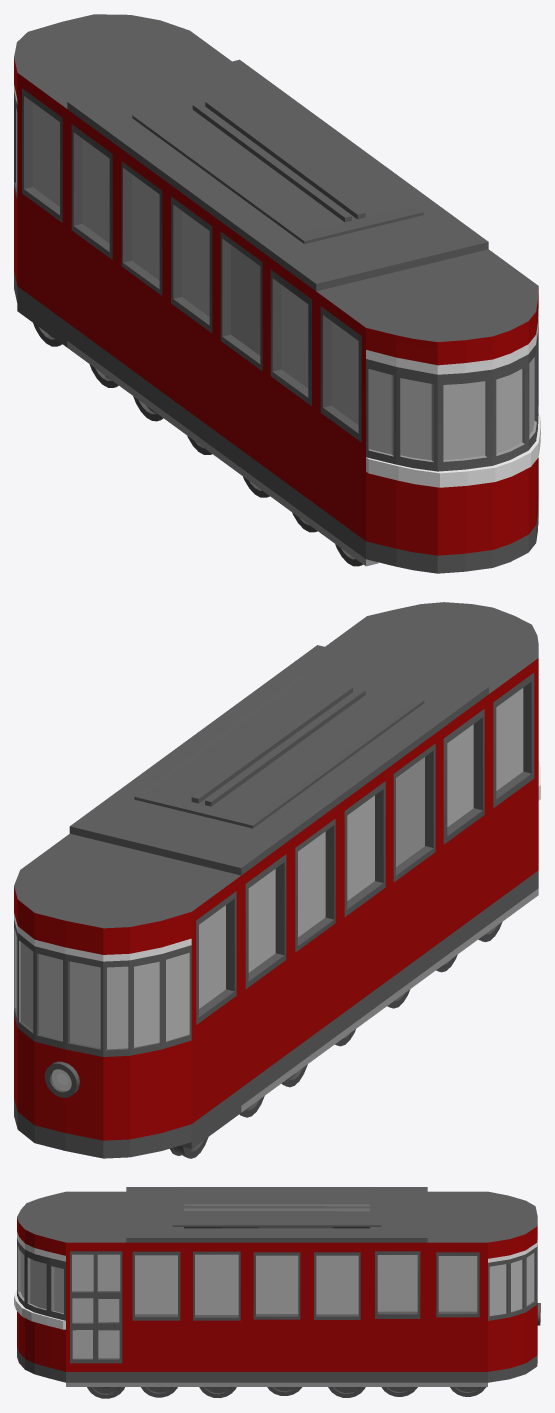
Rendered from TRAMPOLIN.fbx.
3 renders of one model, top to bottom at view 1: azimuth 30°, elevation 25°; view 2: azimuth 150°, elevation 25°; view 3: azimuth 270°, elevation 25°, orthographic. The views are drawn at different scales.
Parts seen in each view (by area): view 1: pCylinder47; view 2: pCylinder47; view 3: pCylinder47.
Boxes of the visible parts, x1,y1,x2,y2 form: pCylinder47: (14,14,540,573); pCylinder47: (14,602,540,1158); pCylinder47: (14,1187,540,1398).
Bounding box in the file's own units: 22.62 × 35.28 × 98.12.
